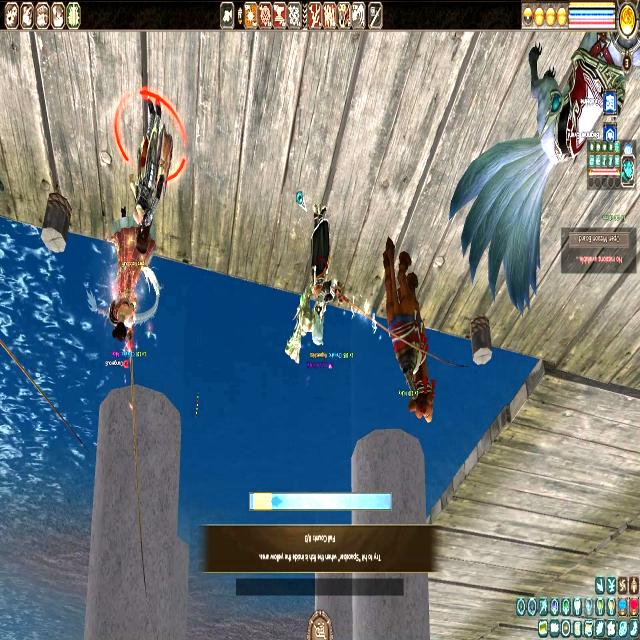fishes: (269, 493, 287, 511)
